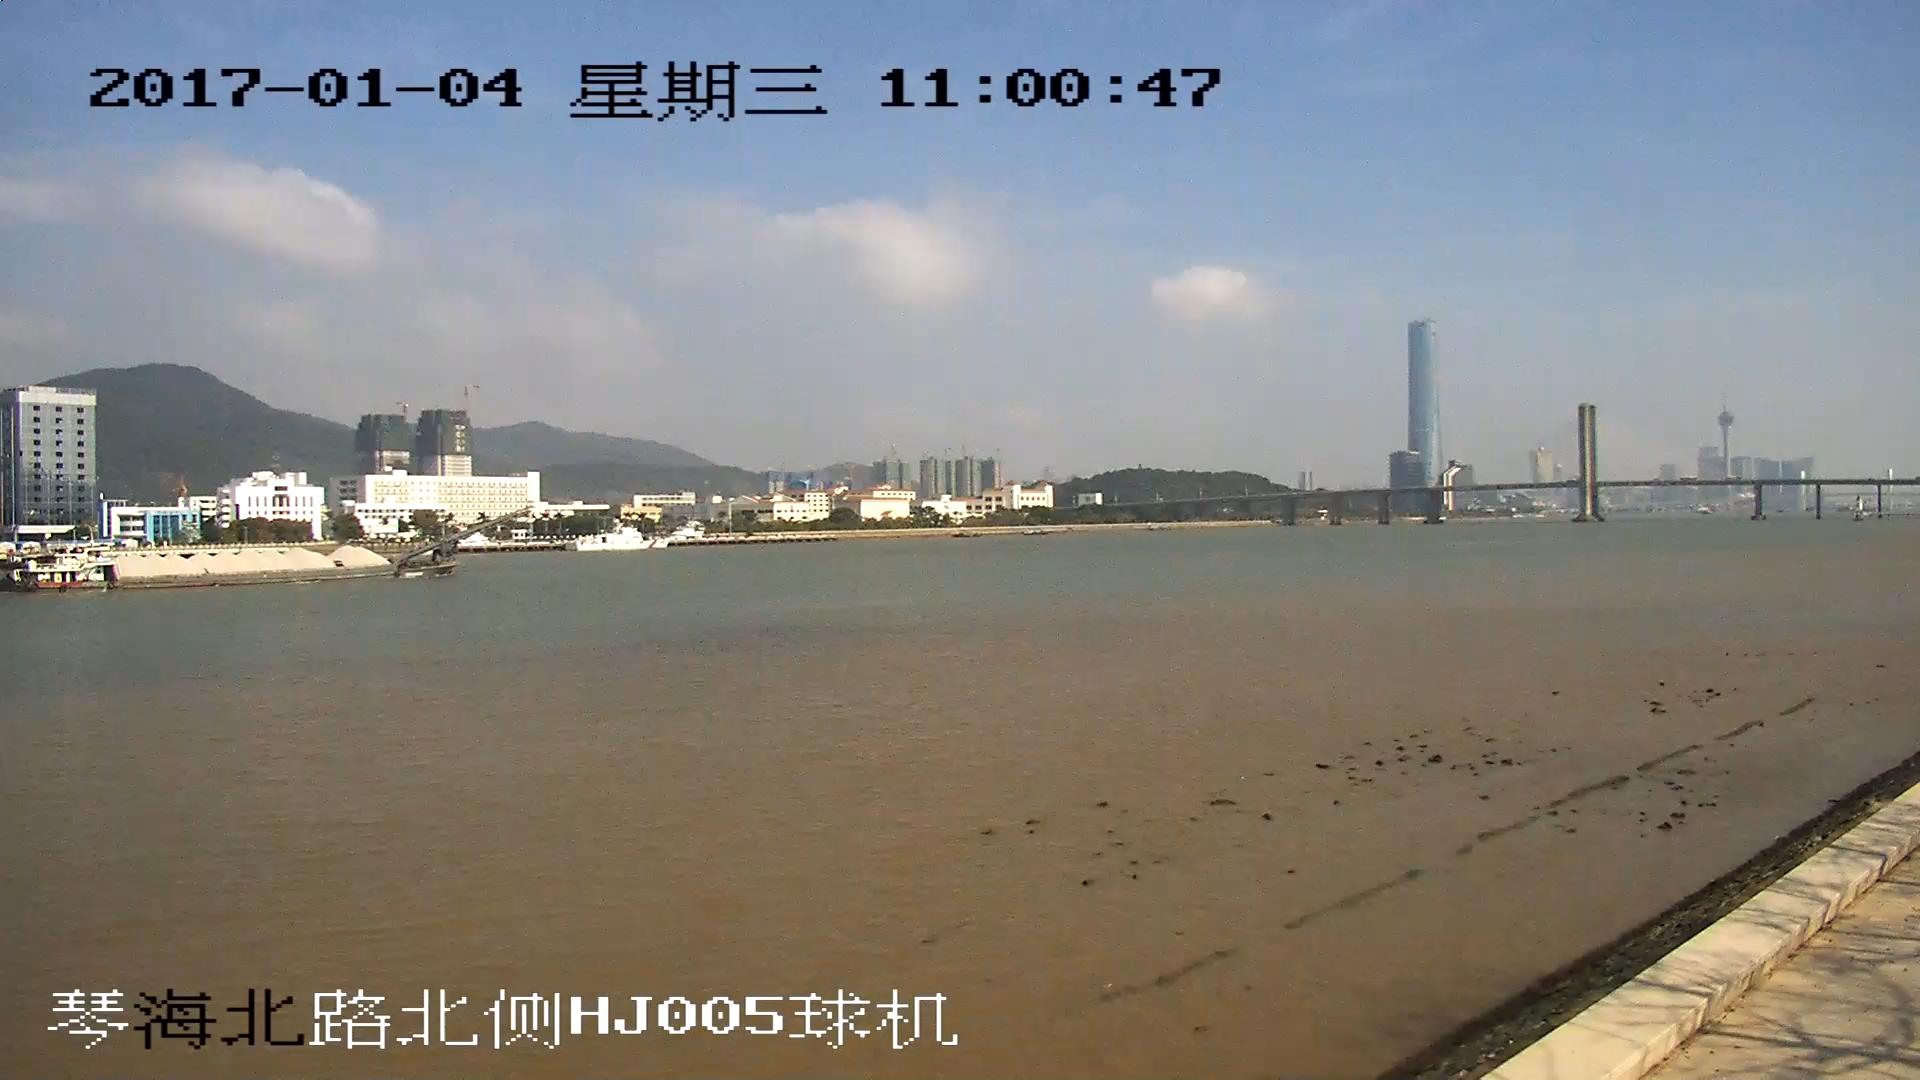ore carrier: (1, 506, 528, 592)
